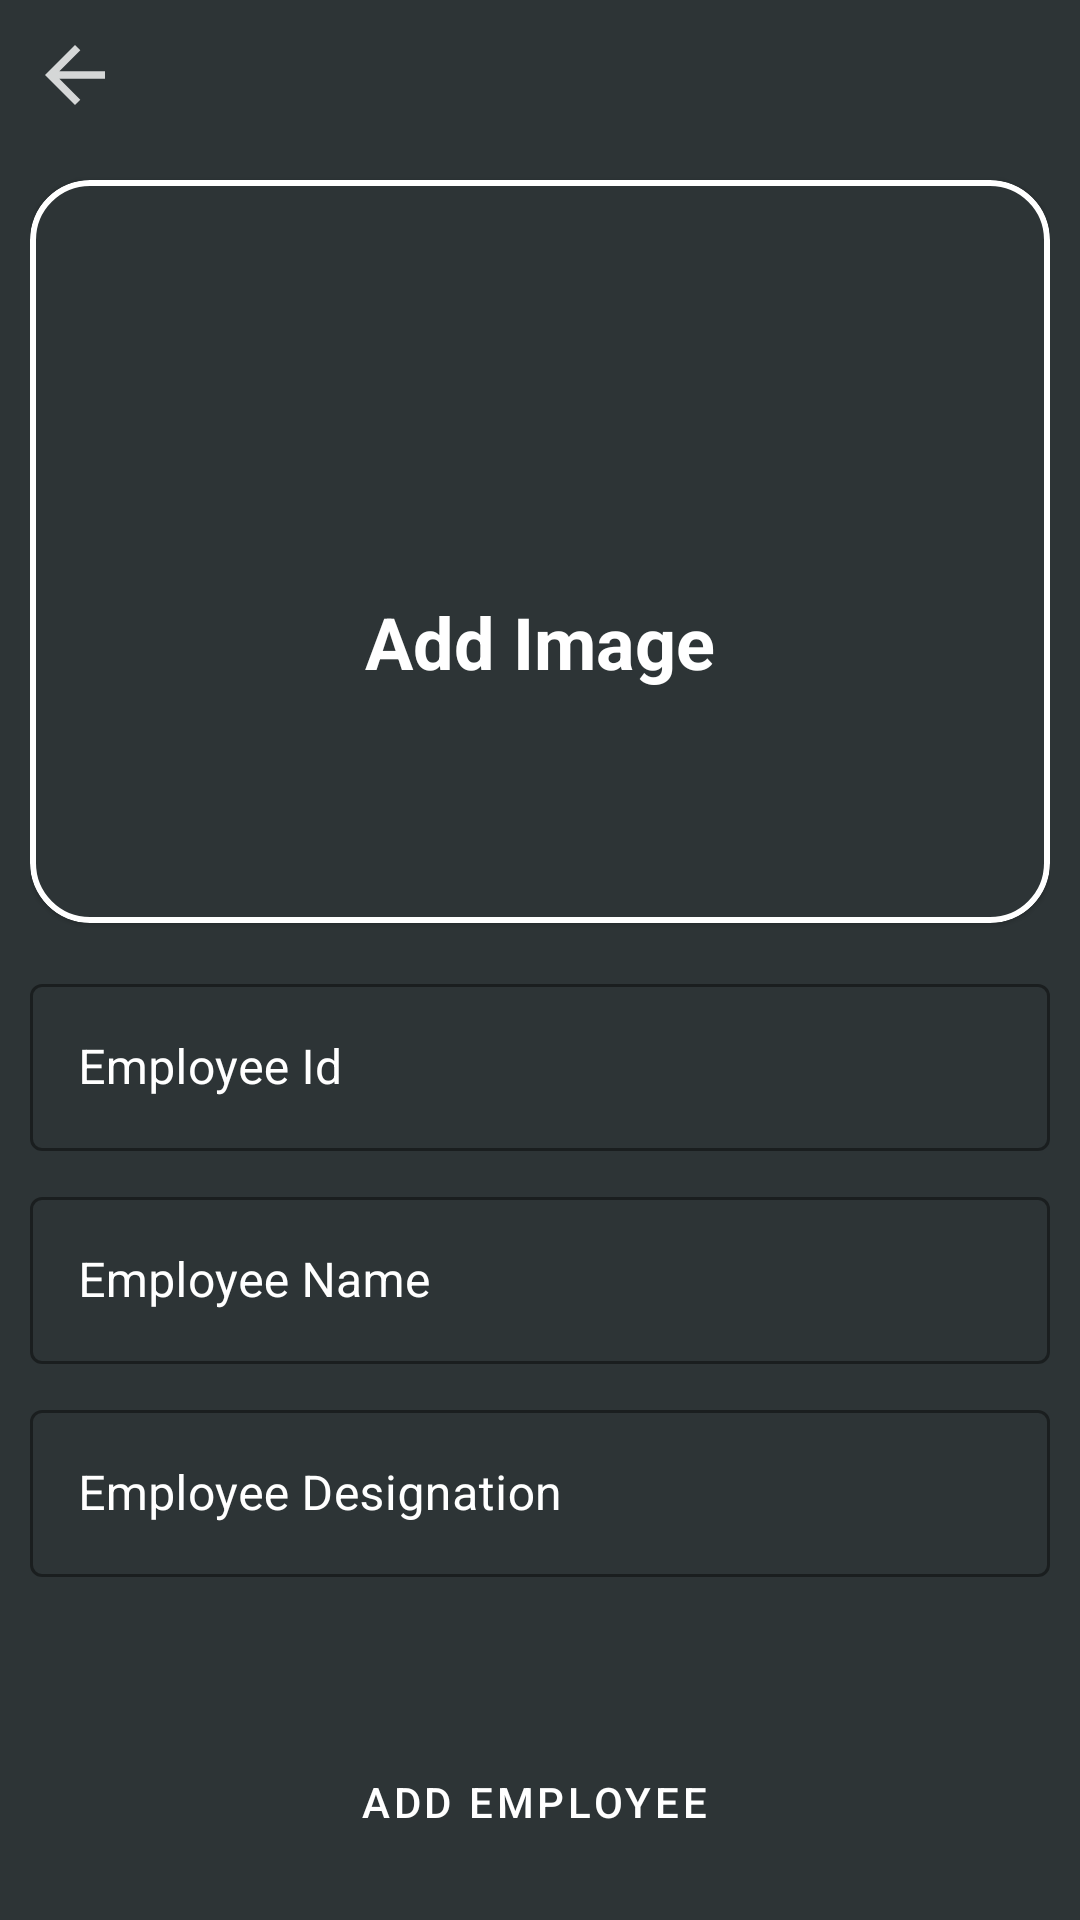

Icons on this 1080 × 1920 Android screen, each with its box as (x1, y1, x2, y2):
back: (45, 45, 105, 105)
